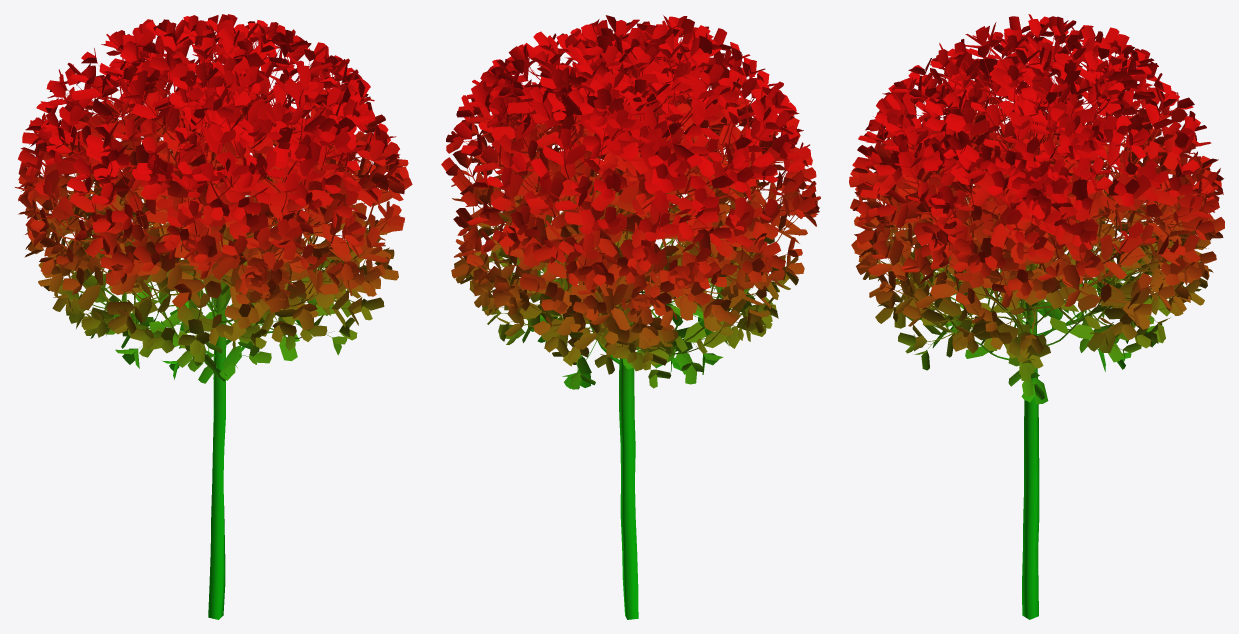
Rendered from Var7_LOD3.fbx.
The picture shows the model from 3 angles, left to right: view 1: azimuth 30°, elevation 25°; view 2: azimuth 150°, elevation 25°; view 3: azimuth 270°, elevation 25°; orthographic projection. The views are drawn at different scales.
Parts seen in each view (by area): view 1: _ixfa_Var7_LOD3; view 2: _ixfa_Var7_LOD3; view 3: _ixfa_Var7_LOD3.
Boxes of the visible parts, bbox=[...] form: _ixfa_Var7_LOD3: bbox=[15, 14, 412, 619]; _ixfa_Var7_LOD3: bbox=[441, 15, 820, 619]; _ixfa_Var7_LOD3: bbox=[849, 14, 1224, 619].
Size of the model in its own units: 46.78 by 77.74 by 45.89.
